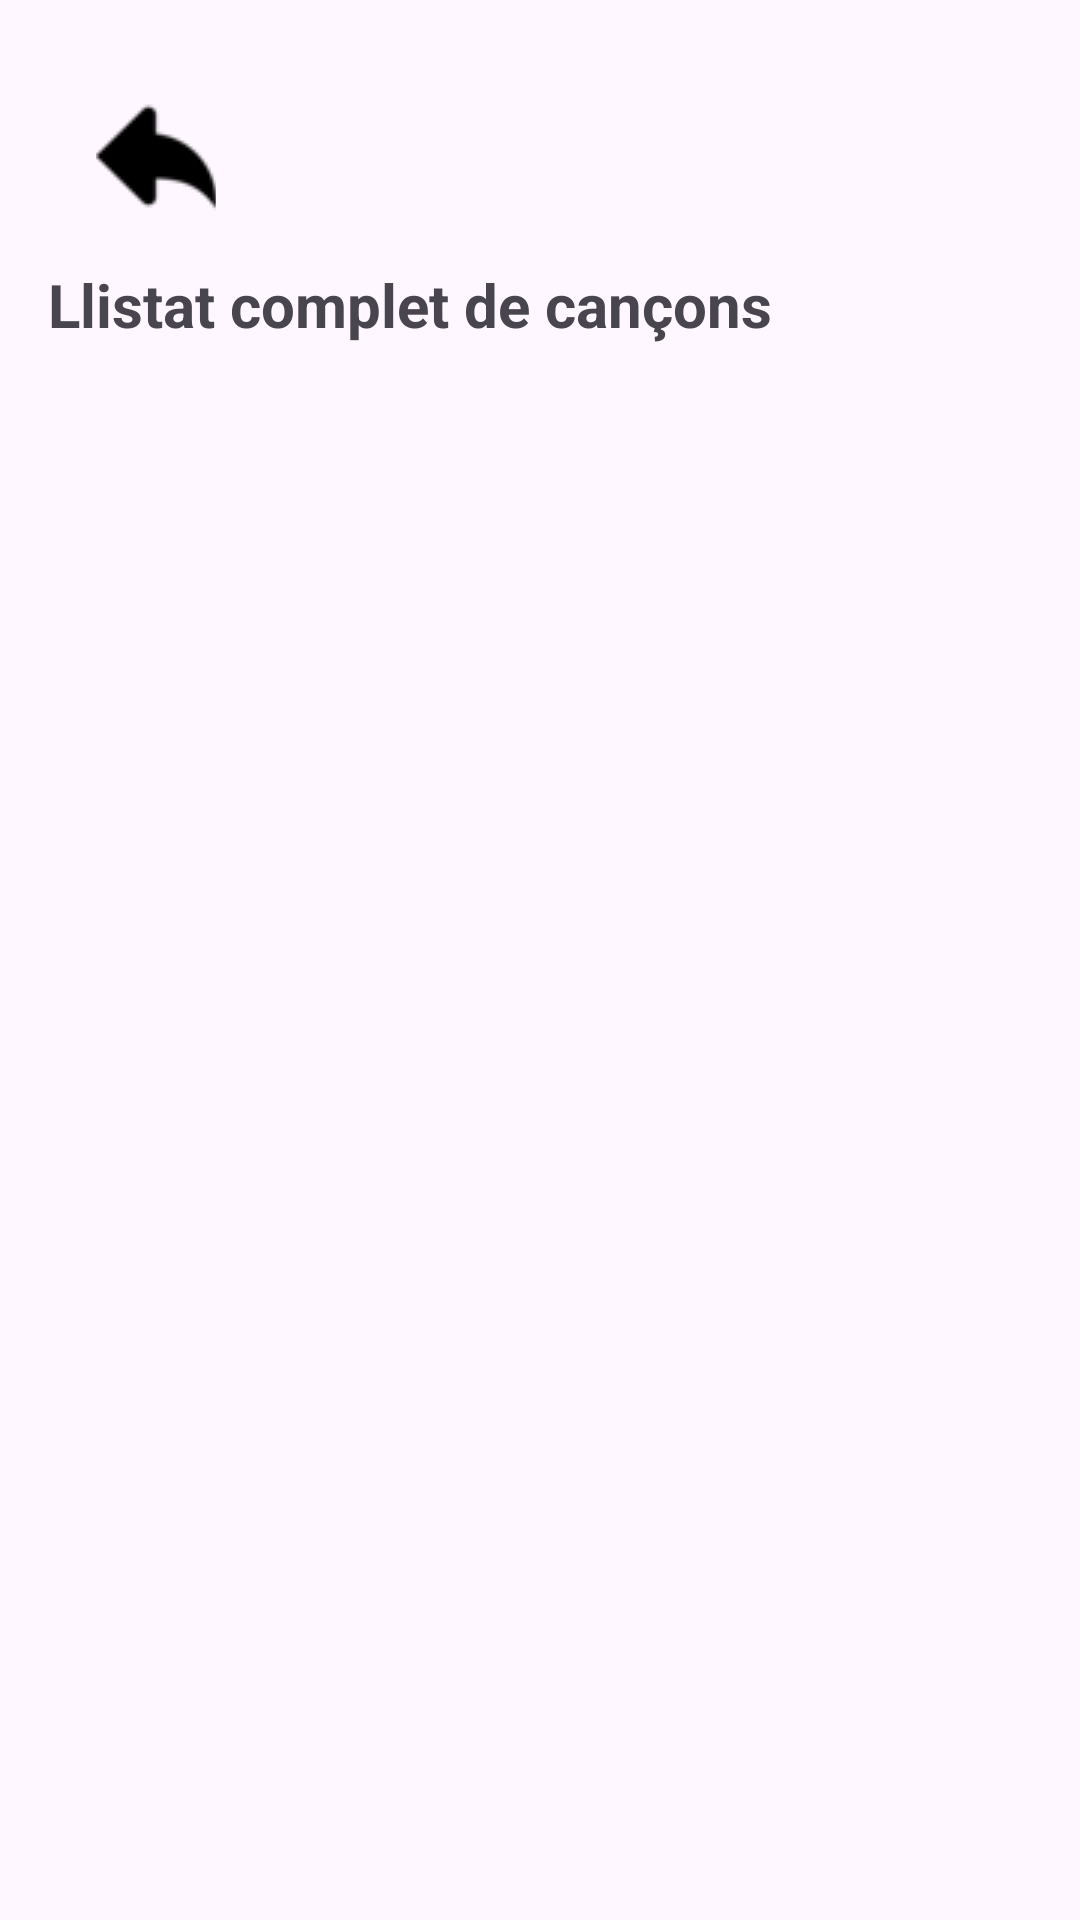

Icons on this 1080px×1920px Android screen, each with its box as bbox(x1, y1, x2, y2):
Volver atrás: bbox(96, 105, 216, 208)
